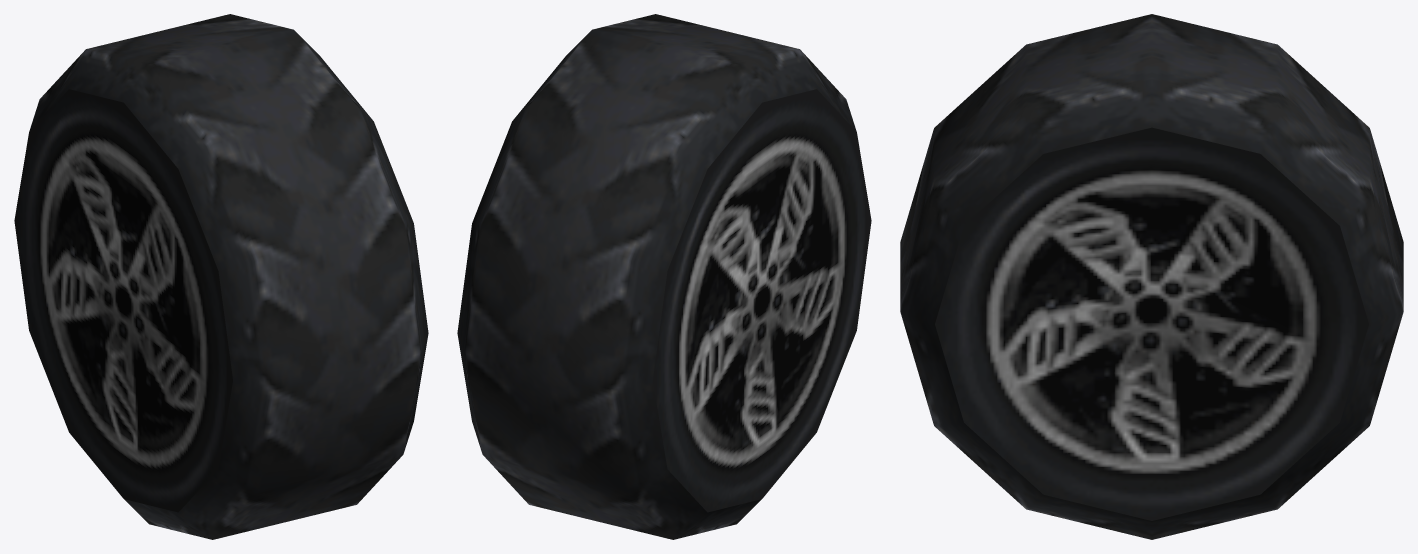
File: car_BL.FBX
The picture shows the model from 3 angles, left to right: view 1: azimuth 30°, elevation 25°; view 2: azimuth 150°, elevation 25°; view 3: azimuth 270°, elevation 25°; orthographic projection.
Visible parts, largest first — view 1: car_BL; view 2: car_BL; view 3: car_BL.
Part boxes in pixels (x1,y1,x2,y2): car_BL: (14, 14, 428, 539); car_BL: (457, 14, 871, 539); car_BL: (900, 14, 1403, 539).
Size of the model in its own units: 51.54 by 116 by 116.
Materials: 1 (1 with a texture image).
